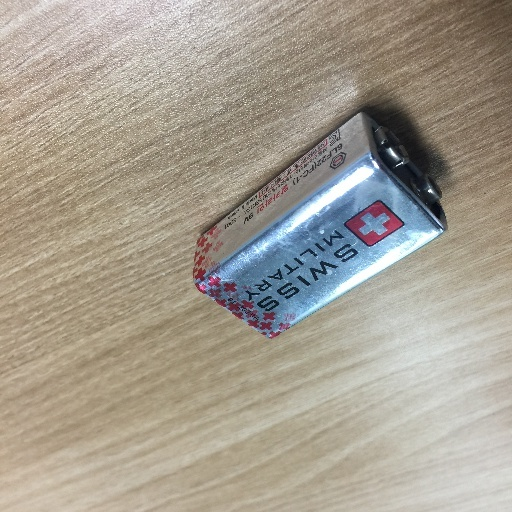Battery_3: (189, 88, 455, 350)
